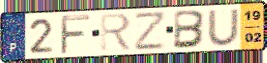2: (28, 17, 56, 55)
B: (172, 9, 208, 51)
F: (59, 14, 93, 56)
R: (99, 12, 134, 52)
U: (206, 7, 241, 47)
Z: (134, 10, 168, 52)
